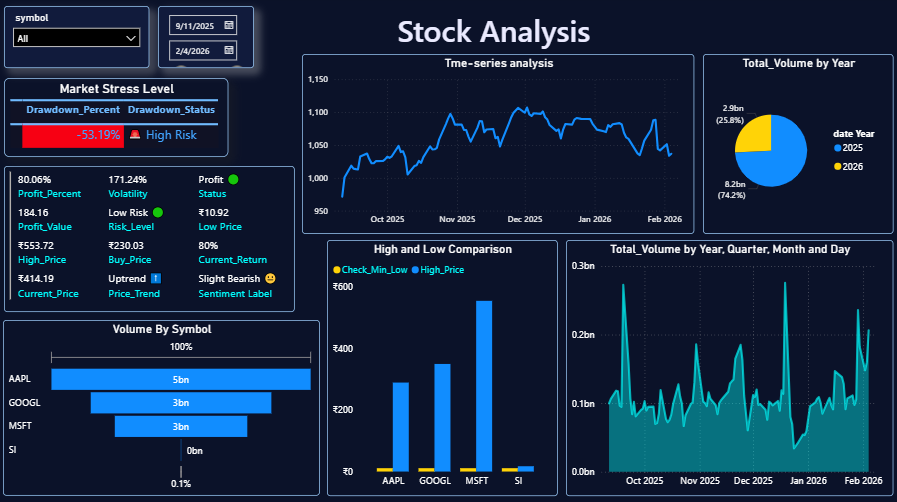

This screenshot's page, from the dashboard's own definition file:
{"tool":"powerbi","page":{"name":"Page 1","canvas":[1280,720],"ordinal":0},"visuals":[{"type":"slicer","fields":{"Values":["stock_db stock_prices.symbol"]},"box":[9,13.4,205.9,88],"z":0},{"type":"lineChart","title":"Tme-series analysis","fields":{"Y":["Sum(stock_db stock_prices.close)"],"Category":["stock_db stock_prices.date.Variation.Date Hierarchy.Year","stock_db stock_prices.date.Variation.Date Hierarchy.Quarter","stock_db stock_prices.date.Variation.Date Hierarchy.Month","stock_db stock_prices.date.Variation.Date Hierarchy.Day"]},"box":[431.1,80.6,556.5,255.1],"z":1000},{"type":"textbox","box":[456.5,13.4,399.8,67.1],"z":2000},{"type":"clusteredColumnChart","title":"High and Low Comparison","fields":{"Category":["stock_db stock_prices.symbol"],"Y":["stock_db stock_prices.Low_Price","stock_db stock_prices.High_Price"]},"box":[466.9,344.6,326.7,362.5],"z":3000},{"type":"areaChart","fields":{"Category":["stock_db stock_prices.date.Variation.Date Hierarchy.Year","stock_db stock_prices.date.Variation.Date Hierarchy.Quarter","stock_db stock_prices.date.Variation.Date Hierarchy.Month","stock_db stock_prices.date.Variation.Date Hierarchy.Day"],"Y":["stock_db stock_prices.Total_Volume"]},"box":[805.6,344.6,464,362.5],"z":4000},{"type":"multiRowCard","fields":{"Values":["stock_db stock_prices.Profit_Percent","stock_db stock_prices.Volatility","stock_db stock_prices.Profit_Status","stock_db stock_prices.Profit_Value","stock_db stock_prices.Risk_Level","stock_db stock_prices.Low_Price","stock_db stock_prices.High_Price","stock_db stock_prices.Buy_Price","stock_db stock_prices.Daily_Return_Percent","stock_db stock_prices.Current_Price","stock_db stock_prices.Price_Trend","stock_db stock_prices.Sentiment Label"]},"box":[9,240.2,411.7,207.4],"z":5000},{"type":"pieChart","fields":{"Y":["stock_db stock_prices.Total_Volume"],"Category":["stock_db stock_prices.date.Variation.Date Hierarchy.Year","stock_db stock_prices.date.Variation.Date Hierarchy.Quarter","stock_db stock_prices.date.Variation.Date Hierarchy.Month","stock_db stock_prices.date.Variation.Date Hierarchy.Day"]},"box":[999.5,80.6,270,255.1],"z":6000},{"type":"funnel","title":"Volume By Symbol","fields":{"Category":["stock_db stock_prices.symbol"],"Y":["stock_db stock_prices.Total_Volume"]},"box":[7.5,458,449,249.1],"z":7000},{"type":"pivotTable","title":"Market Stress Level","fields":{"Values":["stock_db stock_prices.Drawdown_Percent","stock_db stock_prices.Drawdown_Status"]},"box":[9,114.9,317.8,111.9],"z":8000},{"type":"slicer","fields":{"Values":["stock_db stock_prices.date"]},"box":[226.8,13.4,135.8,88],"z":9000}]}

Visuals, with their boxes in screenshot pixels (x1, y1, x2, y2), scaled from the page's 1280x720 canvas onto the 897x502 screenshot:
slicer - stock_db stock_prices.symbol: [left=6, top=9, right=151, bottom=71]
"Tme-series analysis" lineChart: [left=302, top=56, right=692, bottom=234]
textbox: [left=320, top=9, right=600, bottom=56]
"High and Low Comparison" clusteredColumnChart: [left=327, top=240, right=556, bottom=493]
areaChart - stock_db stock_prices.date.Variation.Date Hierarchy.Year x stock_db stock_prices.date.Variation.Date Hierarchy.Quarter: [left=565, top=240, right=890, bottom=493]
multiRowCard - stock_db stock_prices.Profit_Percent x stock_db stock_prices.Volatility: [left=6, top=167, right=295, bottom=312]
pieChart - stock_db stock_prices.Total_Volume x stock_db stock_prices.date.Variation.Date Hierarchy.Year: [left=700, top=56, right=890, bottom=234]
"Volume By Symbol" funnel: [left=5, top=319, right=320, bottom=493]
"Market Stress Level" pivotTable: [left=6, top=80, right=229, bottom=158]
slicer - stock_db stock_prices.date: [left=159, top=9, right=254, bottom=71]
